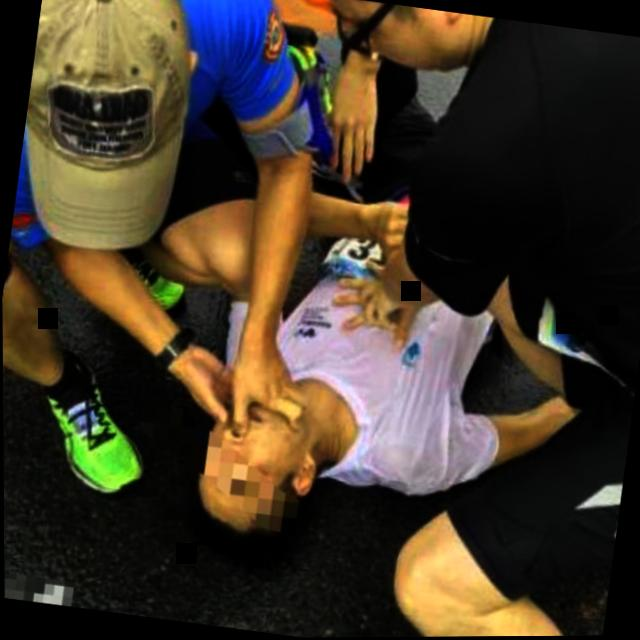Fall-Detected: (153, 134, 591, 603)
